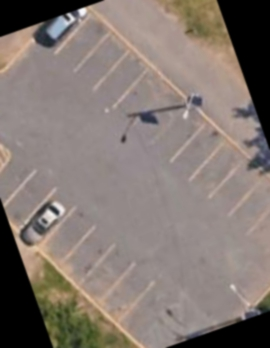parkingspot: (27, 5, 270, 265), (0, 144, 161, 330)
